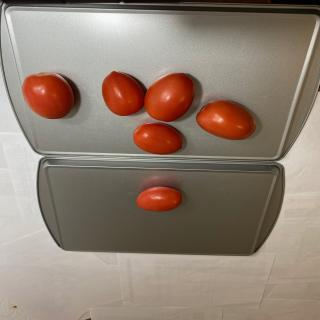Tomato: (144, 72, 195, 122), (22, 72, 74, 119), (196, 100, 256, 140), (102, 71, 144, 116), (133, 122, 182, 155), (136, 186, 182, 212)
